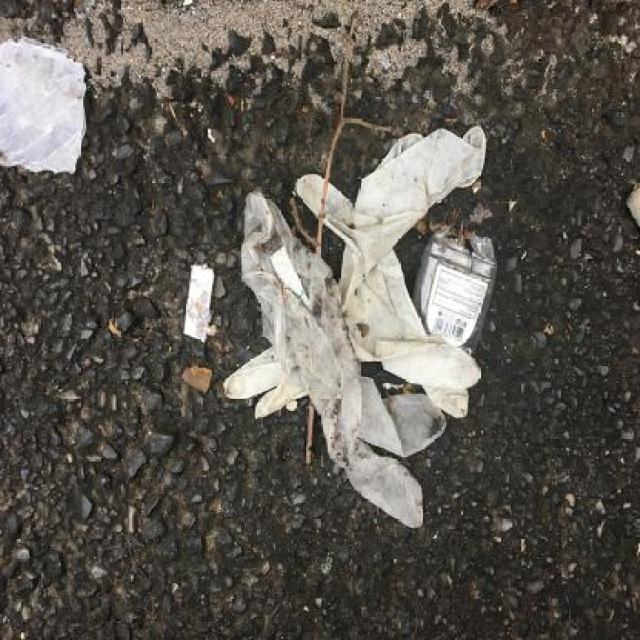gloved_hand: (214, 124, 522, 534)
